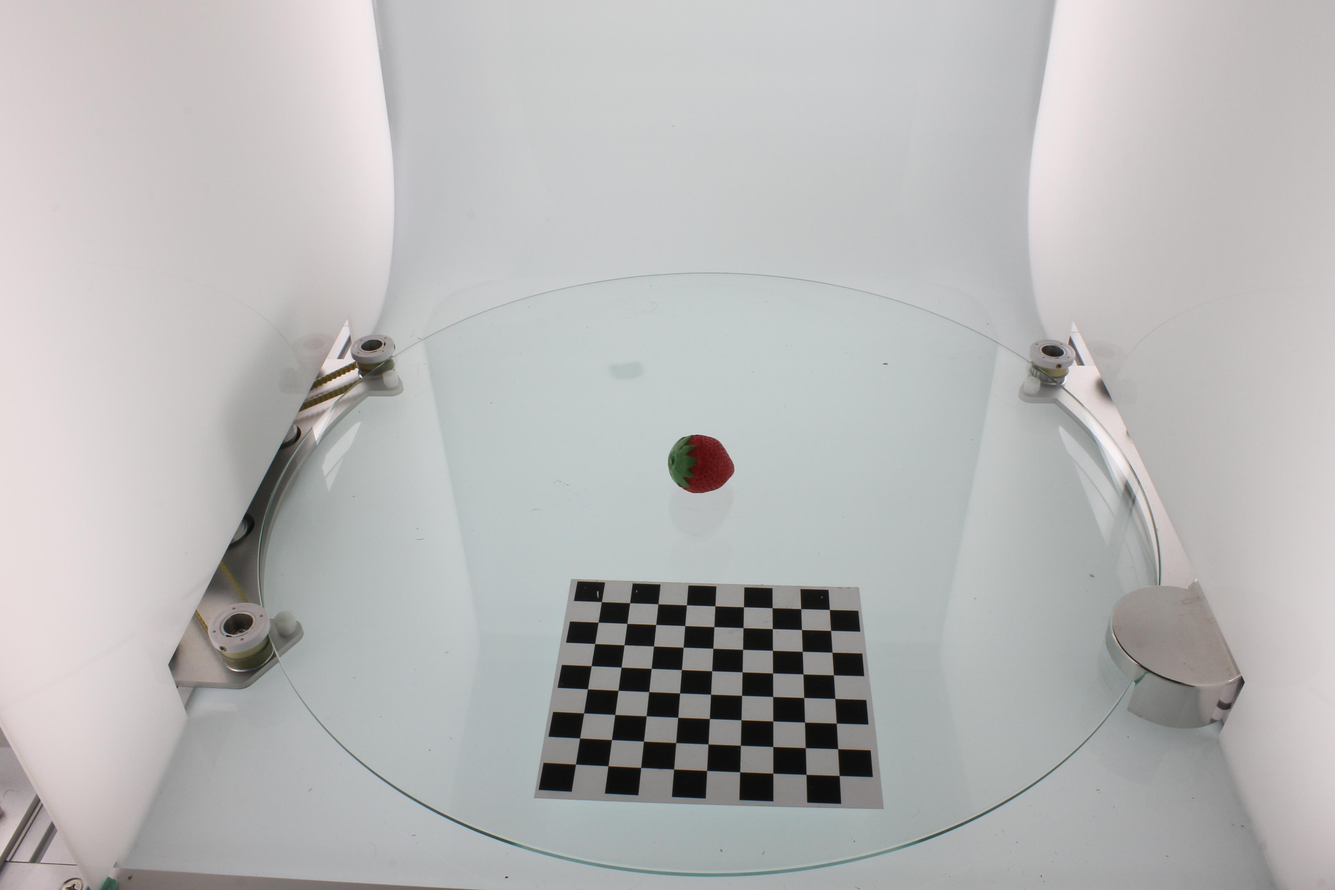strawberry: (668, 435, 734, 493)
